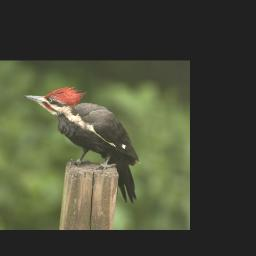Woodpecker: (21, 82, 149, 206)
